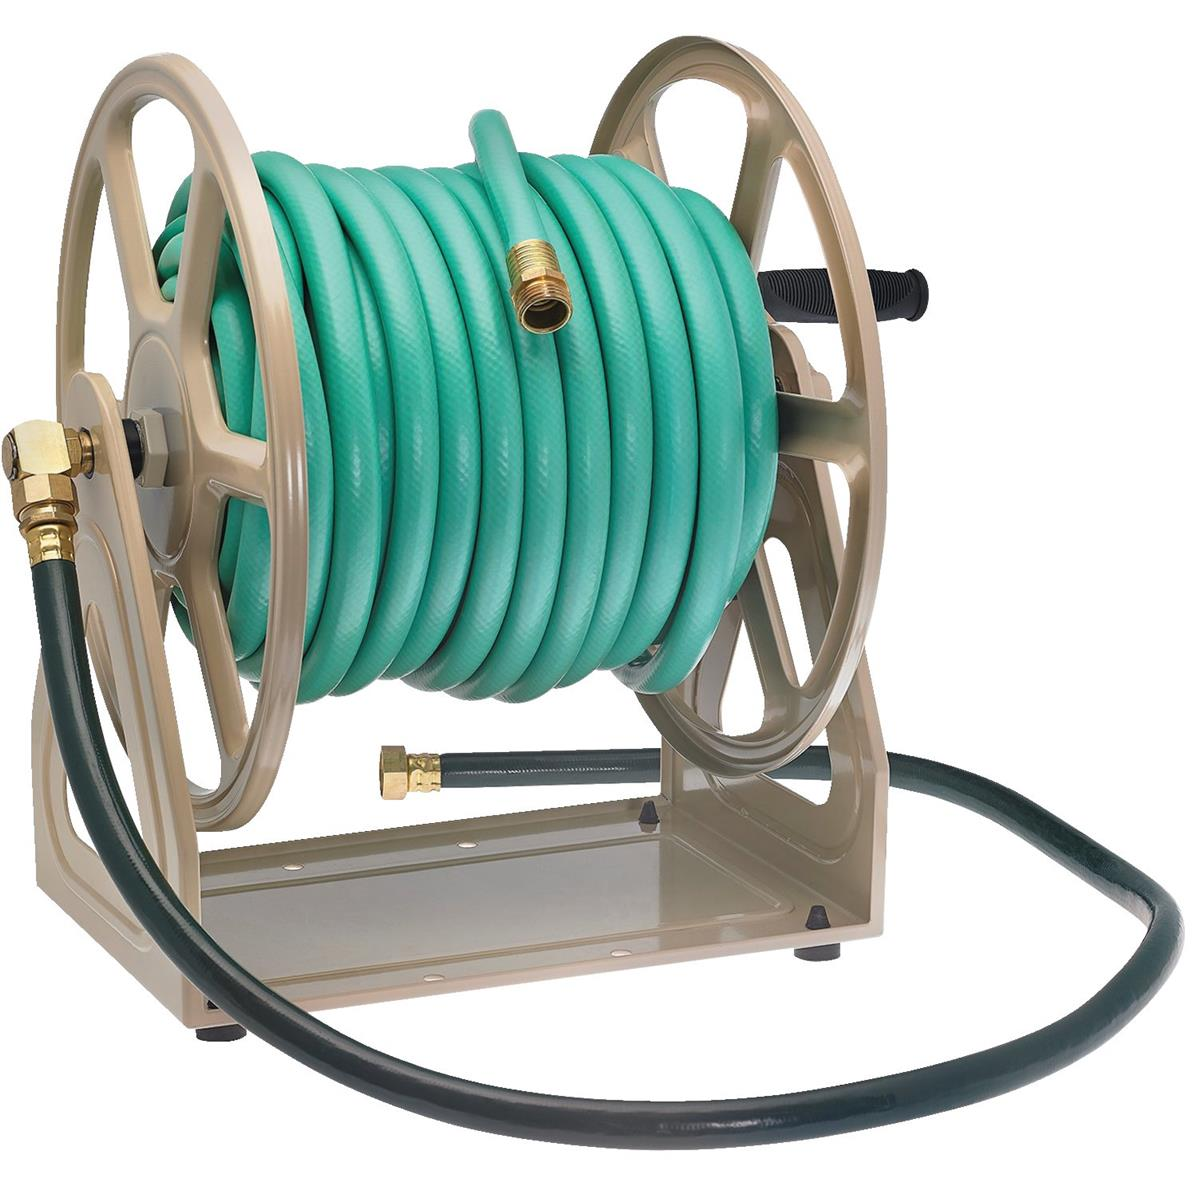Nonrec_Tangler: (21, 5, 1195, 1059)
